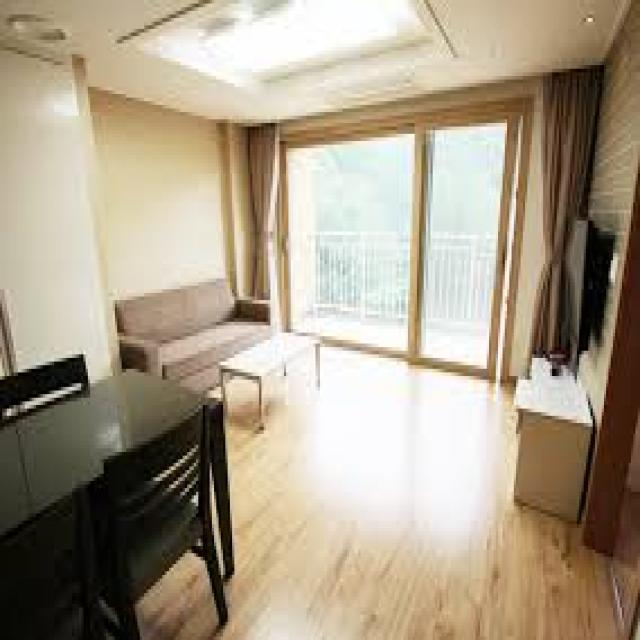Chair: (95, 402, 236, 638)
Sofa: (110, 280, 282, 392)
Table: (222, 330, 324, 424)
tv: (564, 216, 607, 355)
window: (279, 130, 508, 360)
